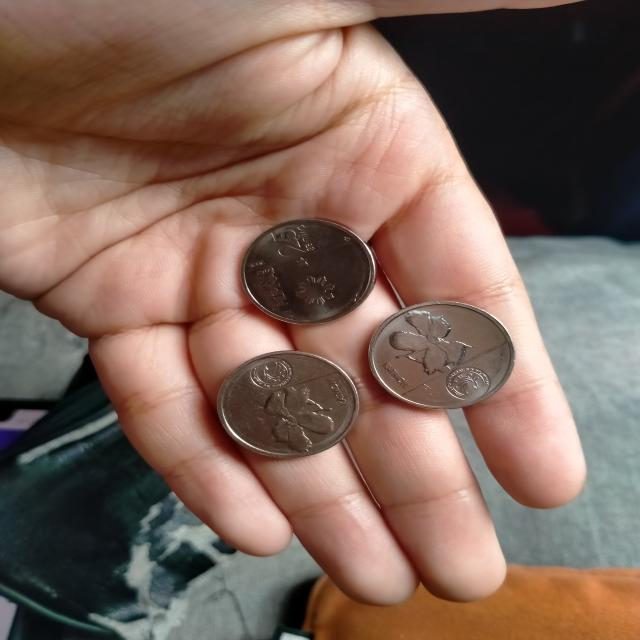25Cent_New_Back: (386, 311, 474, 370), (256, 387, 336, 444)
25Cent_New_Front: (266, 224, 316, 255)
